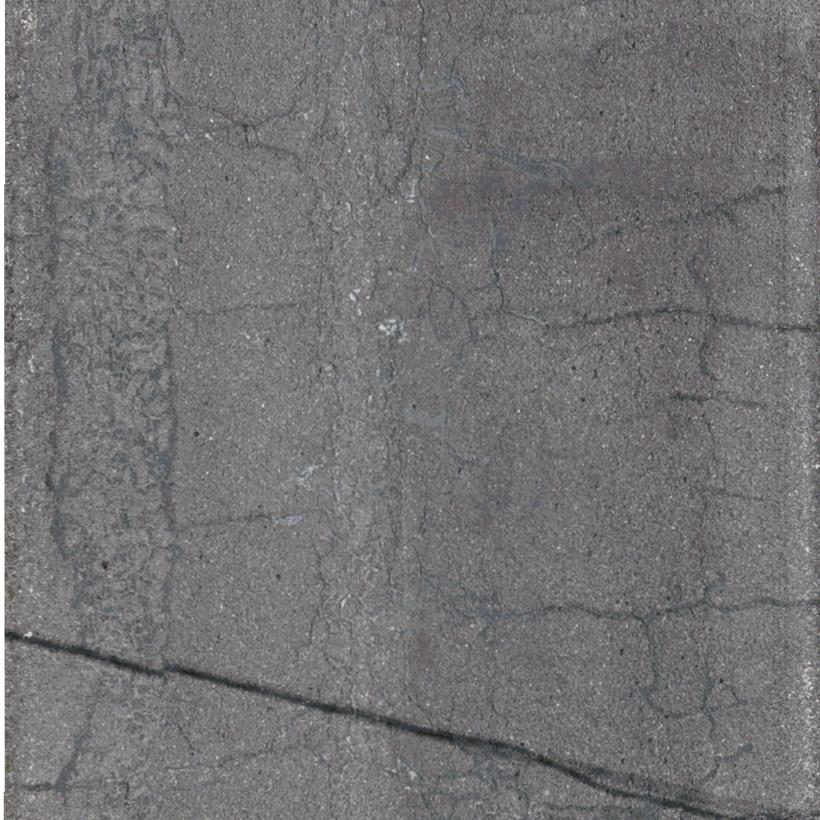GRIETA: (583, 188, 787, 250), (489, 591, 819, 623), (510, 307, 812, 333), (675, 714, 720, 807), (185, 508, 315, 530), (650, 698, 763, 718), (497, 176, 567, 204), (169, 751, 262, 770), (182, 100, 245, 127), (184, 302, 305, 316), (671, 392, 767, 409), (644, 622, 660, 698), (568, 184, 593, 228), (697, 325, 716, 381)
PIEL DE COCODRILO: (245, 0, 532, 812), (39, 0, 185, 819)
